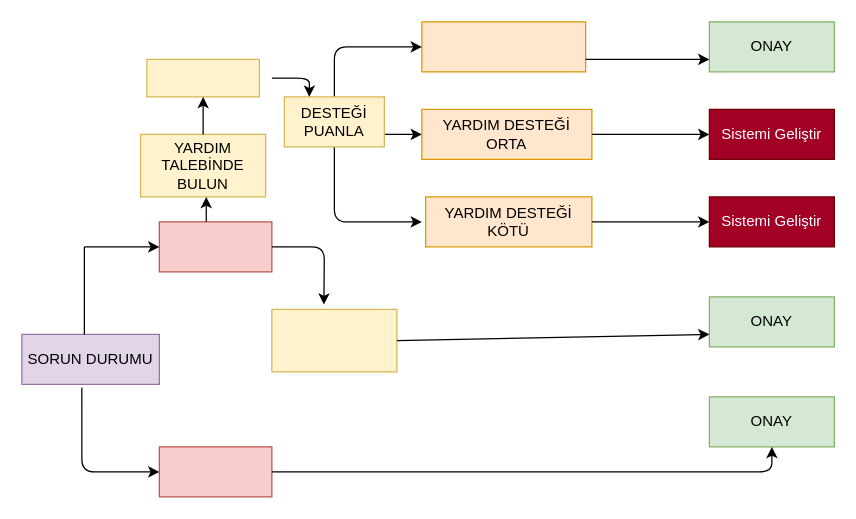
Image size: 856x519. Some labels were removed from this diagram. Each missing label, with the centre of its shape:
DESTEK AL: the point at 202,77
SORUN VAR: the point at 215,246
SORUN YOK: the point at 215,471
YARDIM DESTEĞİ İYİ: the point at 503,46
YARDIM TALEBİNDE BULUNMA: the point at 334,340
